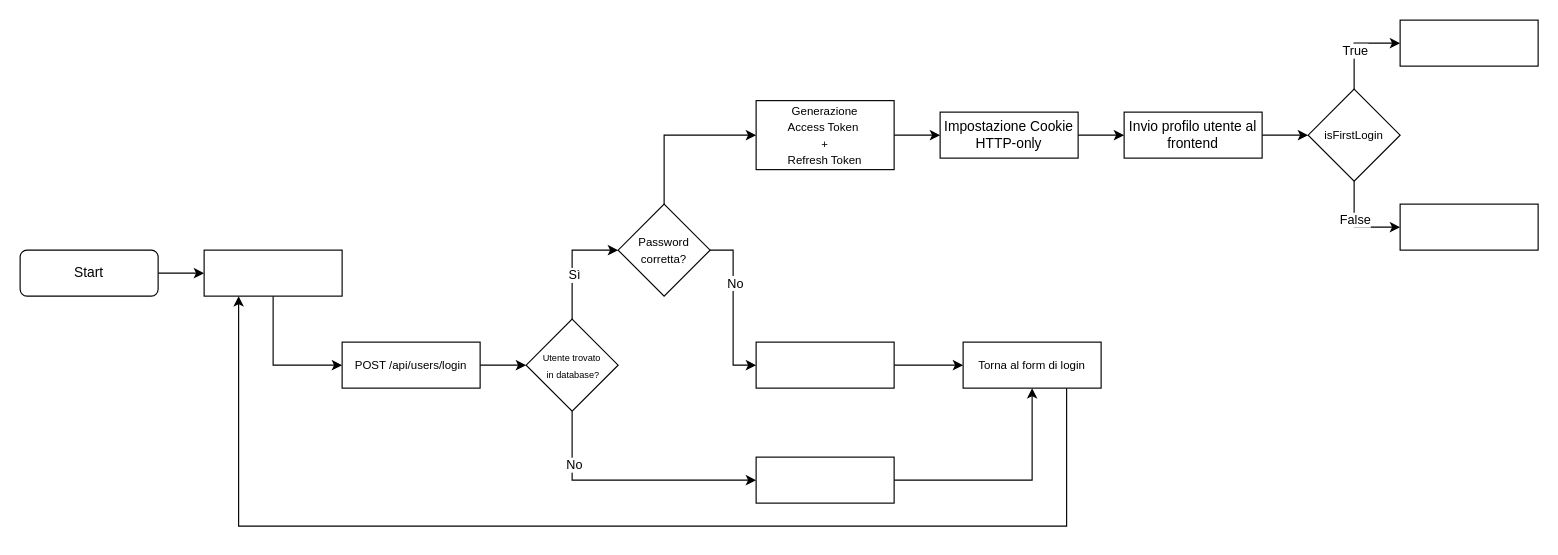
Some shapes in this 1558 by 555 pixel diagram are drawn without their labels. Here are the shapes that lost their labels. From the top down, the centre of each, then its label:
the point at 1468,42: Redirect a /first-login
the point at 1468,226: Redirect a Dashboard/Home
the point at 272,272: Inserimento Credenziali (email, password)
the point at 824,364: Messaggio: Password non corretta
the point at 824,479: Messaggio: Credenziali non valide
